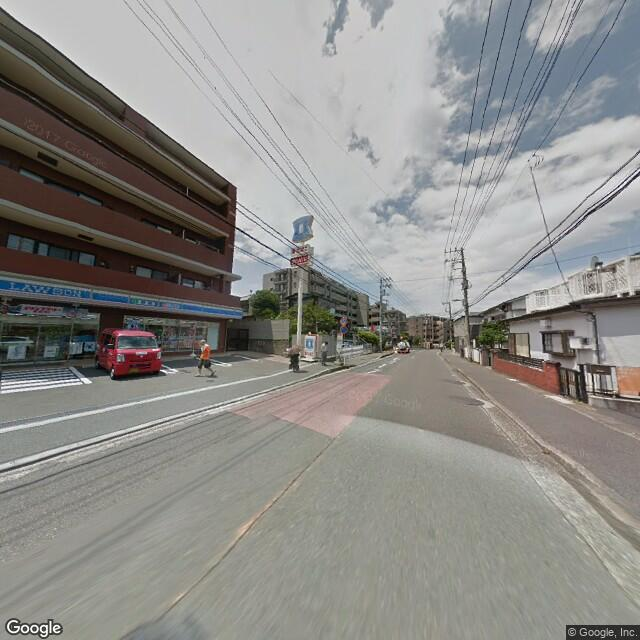lawson: (2, 272, 243, 321), (290, 212, 314, 245), (301, 336, 316, 353)
